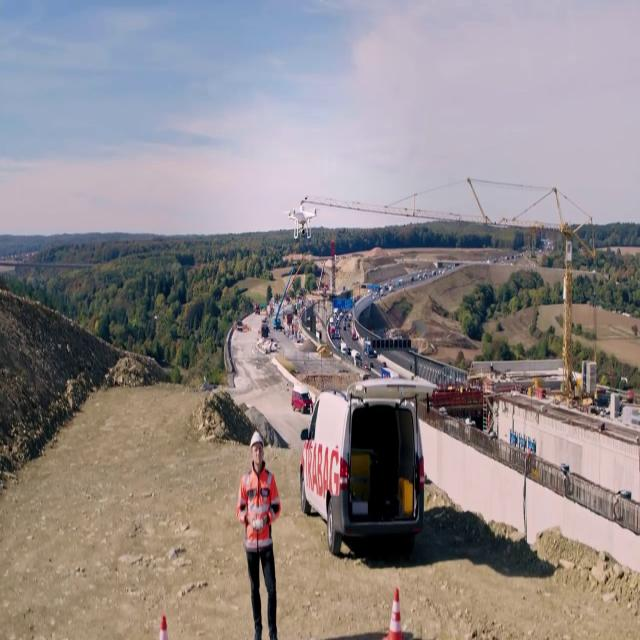drone: (285, 202, 319, 241)
